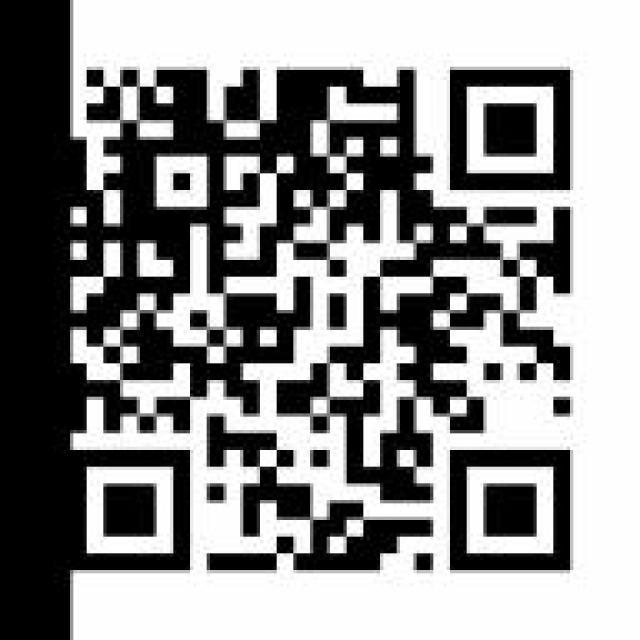qr_code: (54, 69, 572, 571)
